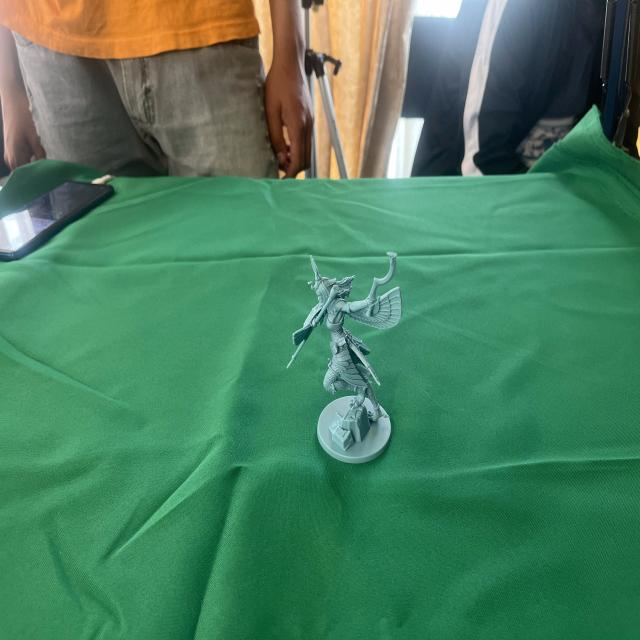isis: (281, 241, 415, 477)
